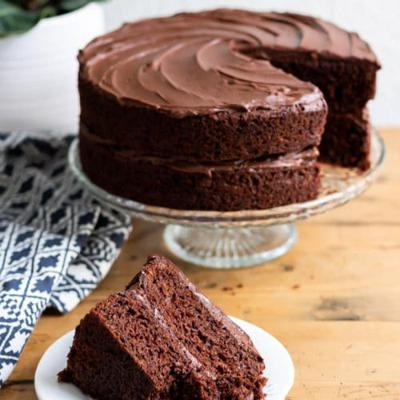cake: (73, 8, 372, 212), (70, 253, 264, 400)
